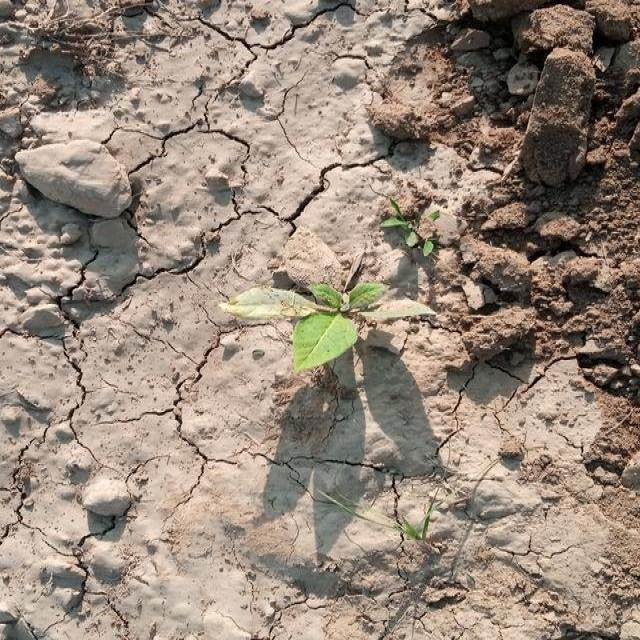crop: (234, 267, 383, 380)
